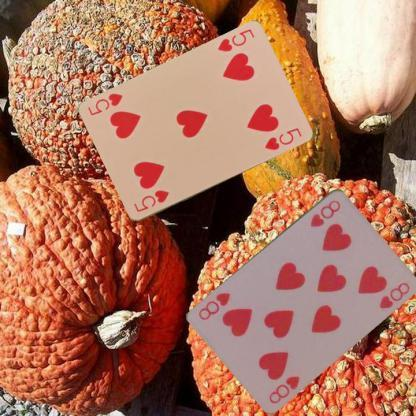5h: (215, 26, 256, 54), (132, 188, 170, 214)
8h: (265, 372, 301, 406), (308, 197, 344, 228)
